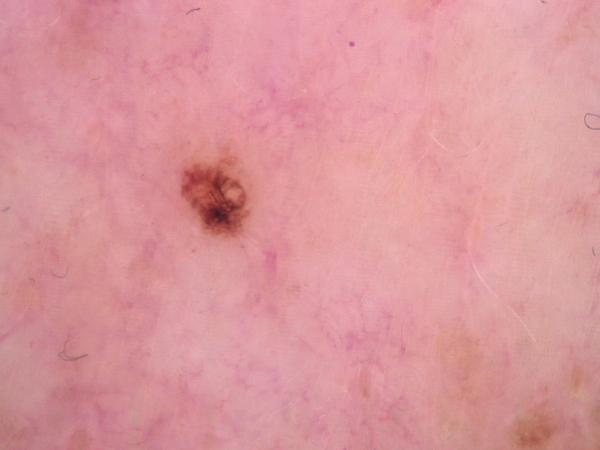Detected Lesion: (178, 154, 262, 245)
